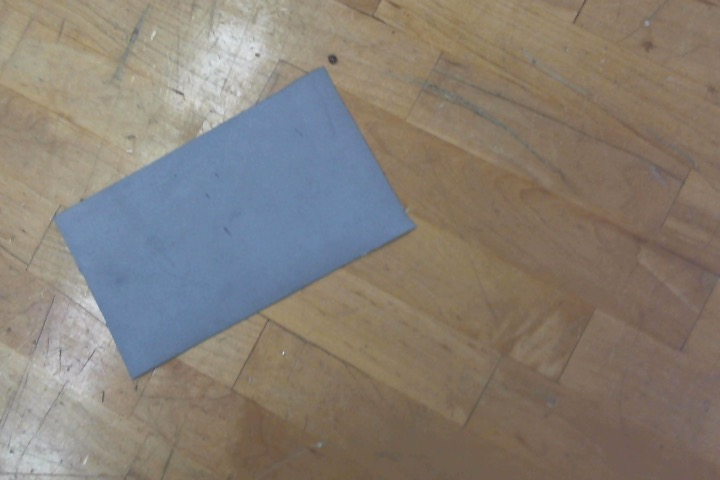Tape: (53, 67, 418, 379)
